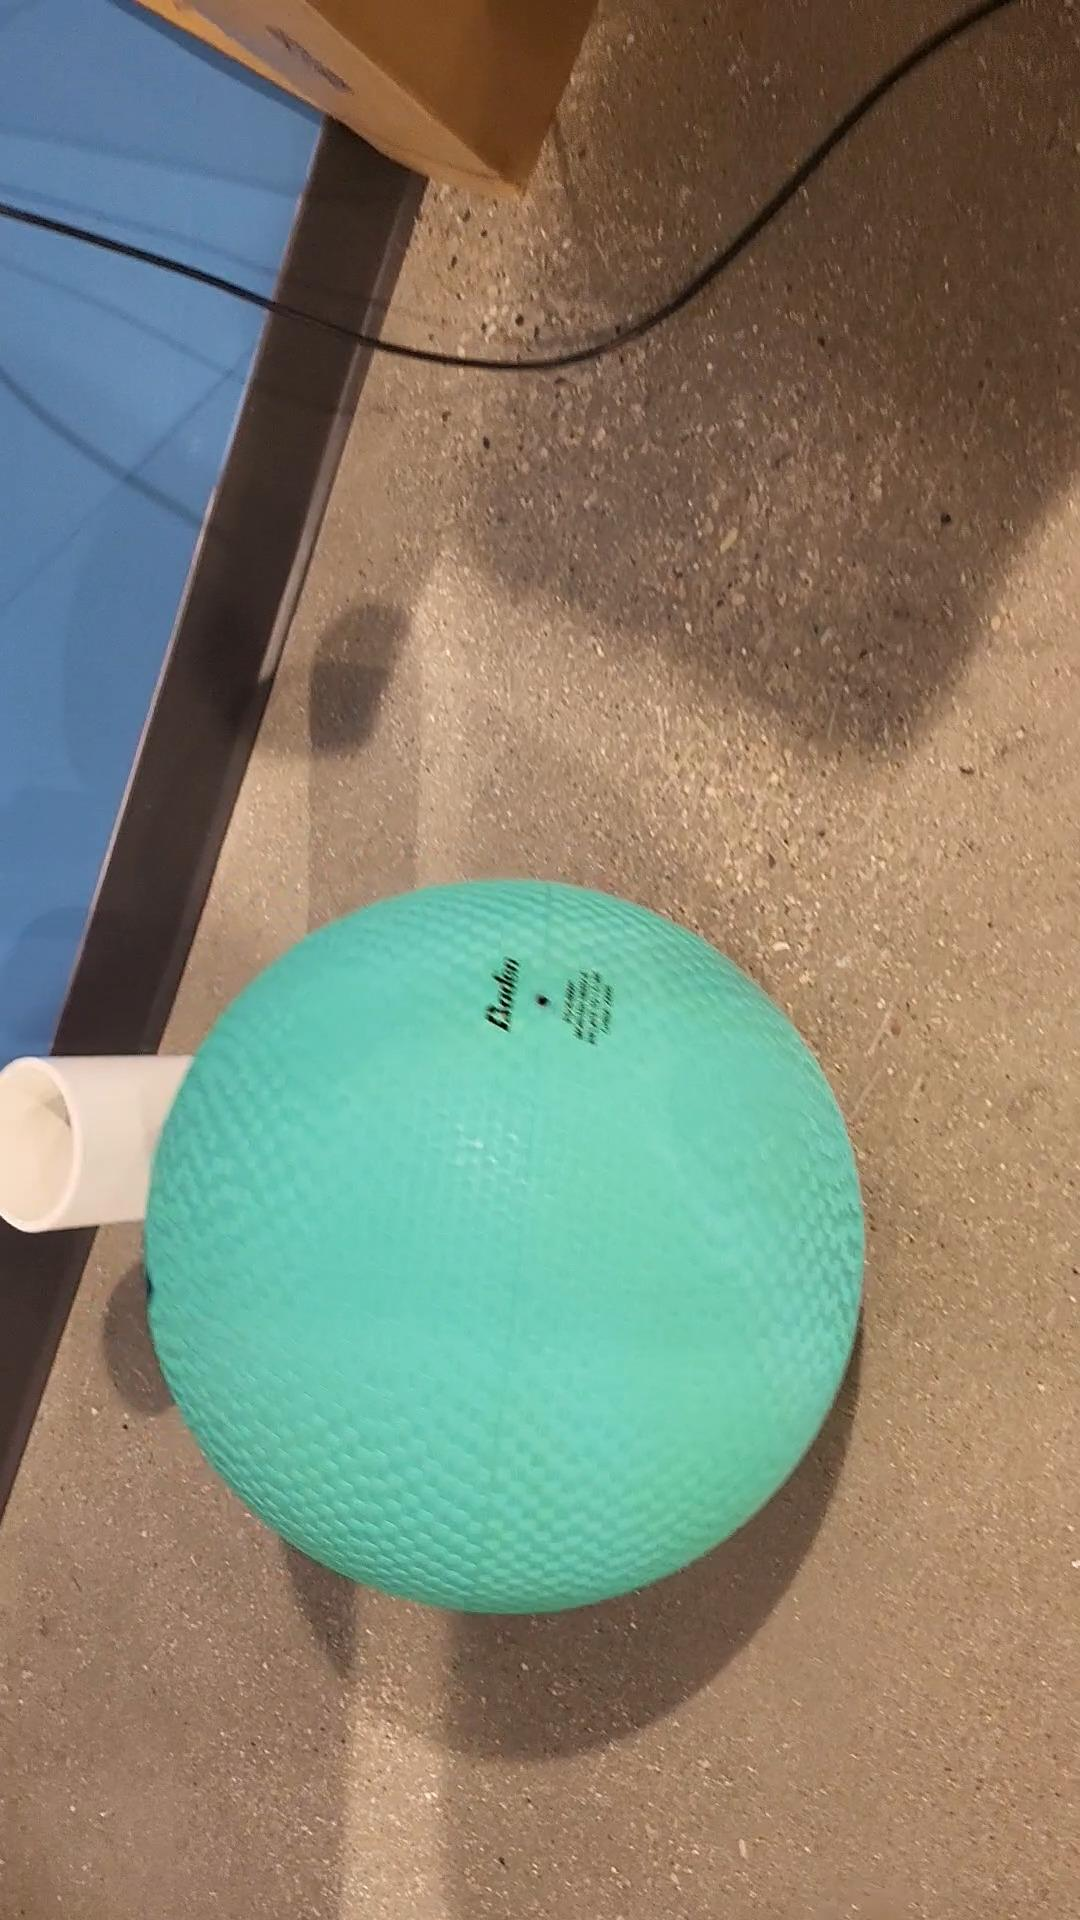algae: (148, 877, 870, 1619)
coral: (0, 1050, 207, 1236)
